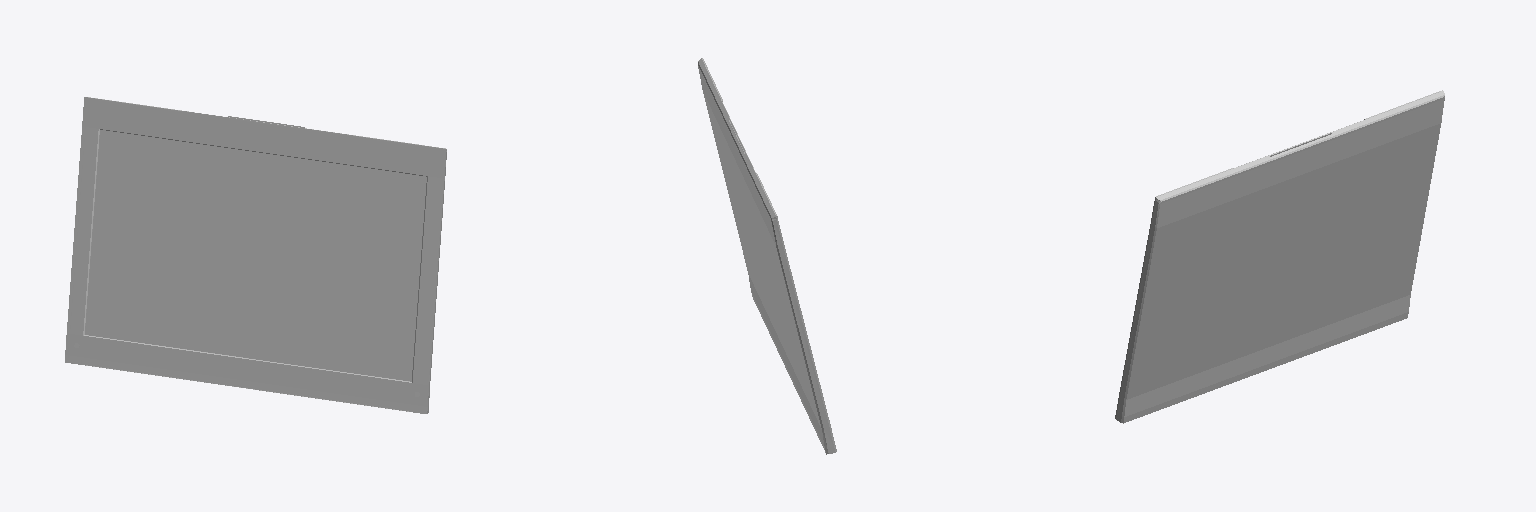
Rendered from laptop_screen.obj.
3 renders of one model, left to right at view 1: azimuth 30°, elevation 25°; view 2: azimuth 150°, elevation 25°; view 3: azimuth 270°, elevation 25°, orthographic.
Visible parts, largest first — view 1: Plane.002_Plane.000; view 2: Plane.002_Plane.000; view 3: Plane.002_Plane.000.
Part boxes in pixels (x1,y1,x2,y2): Plane.002_Plane.000: (65,97,446,413); Plane.002_Plane.000: (698,58,836,454); Plane.002_Plane.000: (1115,90,1444,423).
Size of the model in its own units: 0.3252 by 0.2907 by 0.3568.